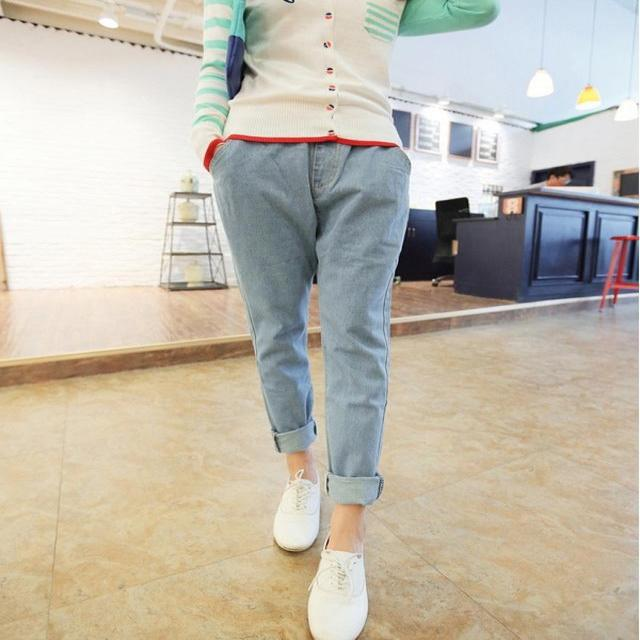trousers: (195, 108, 520, 528)
